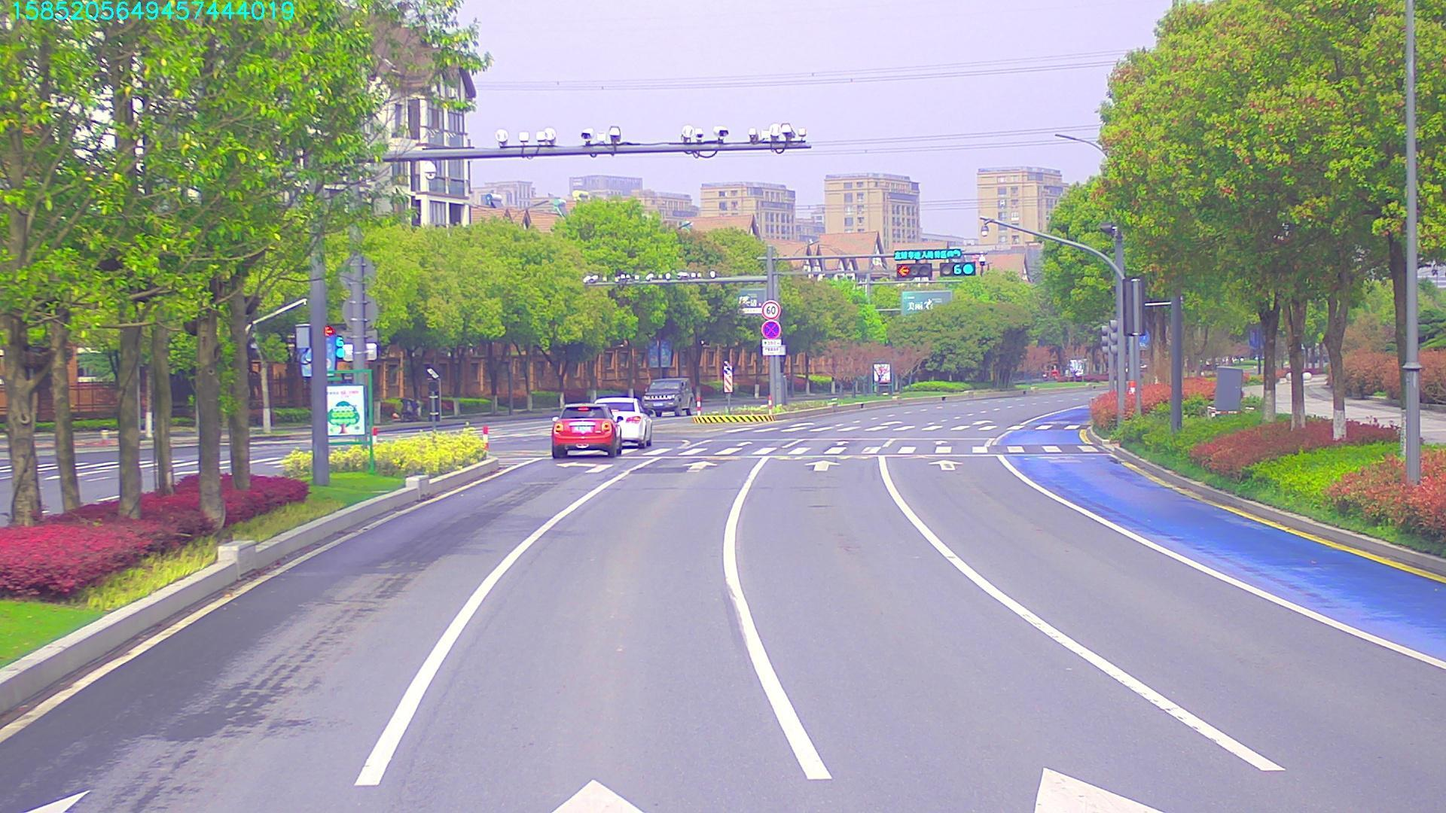green: (937, 262, 975, 275)
red: (898, 264, 929, 279)
wait_on: (895, 248, 964, 261)
